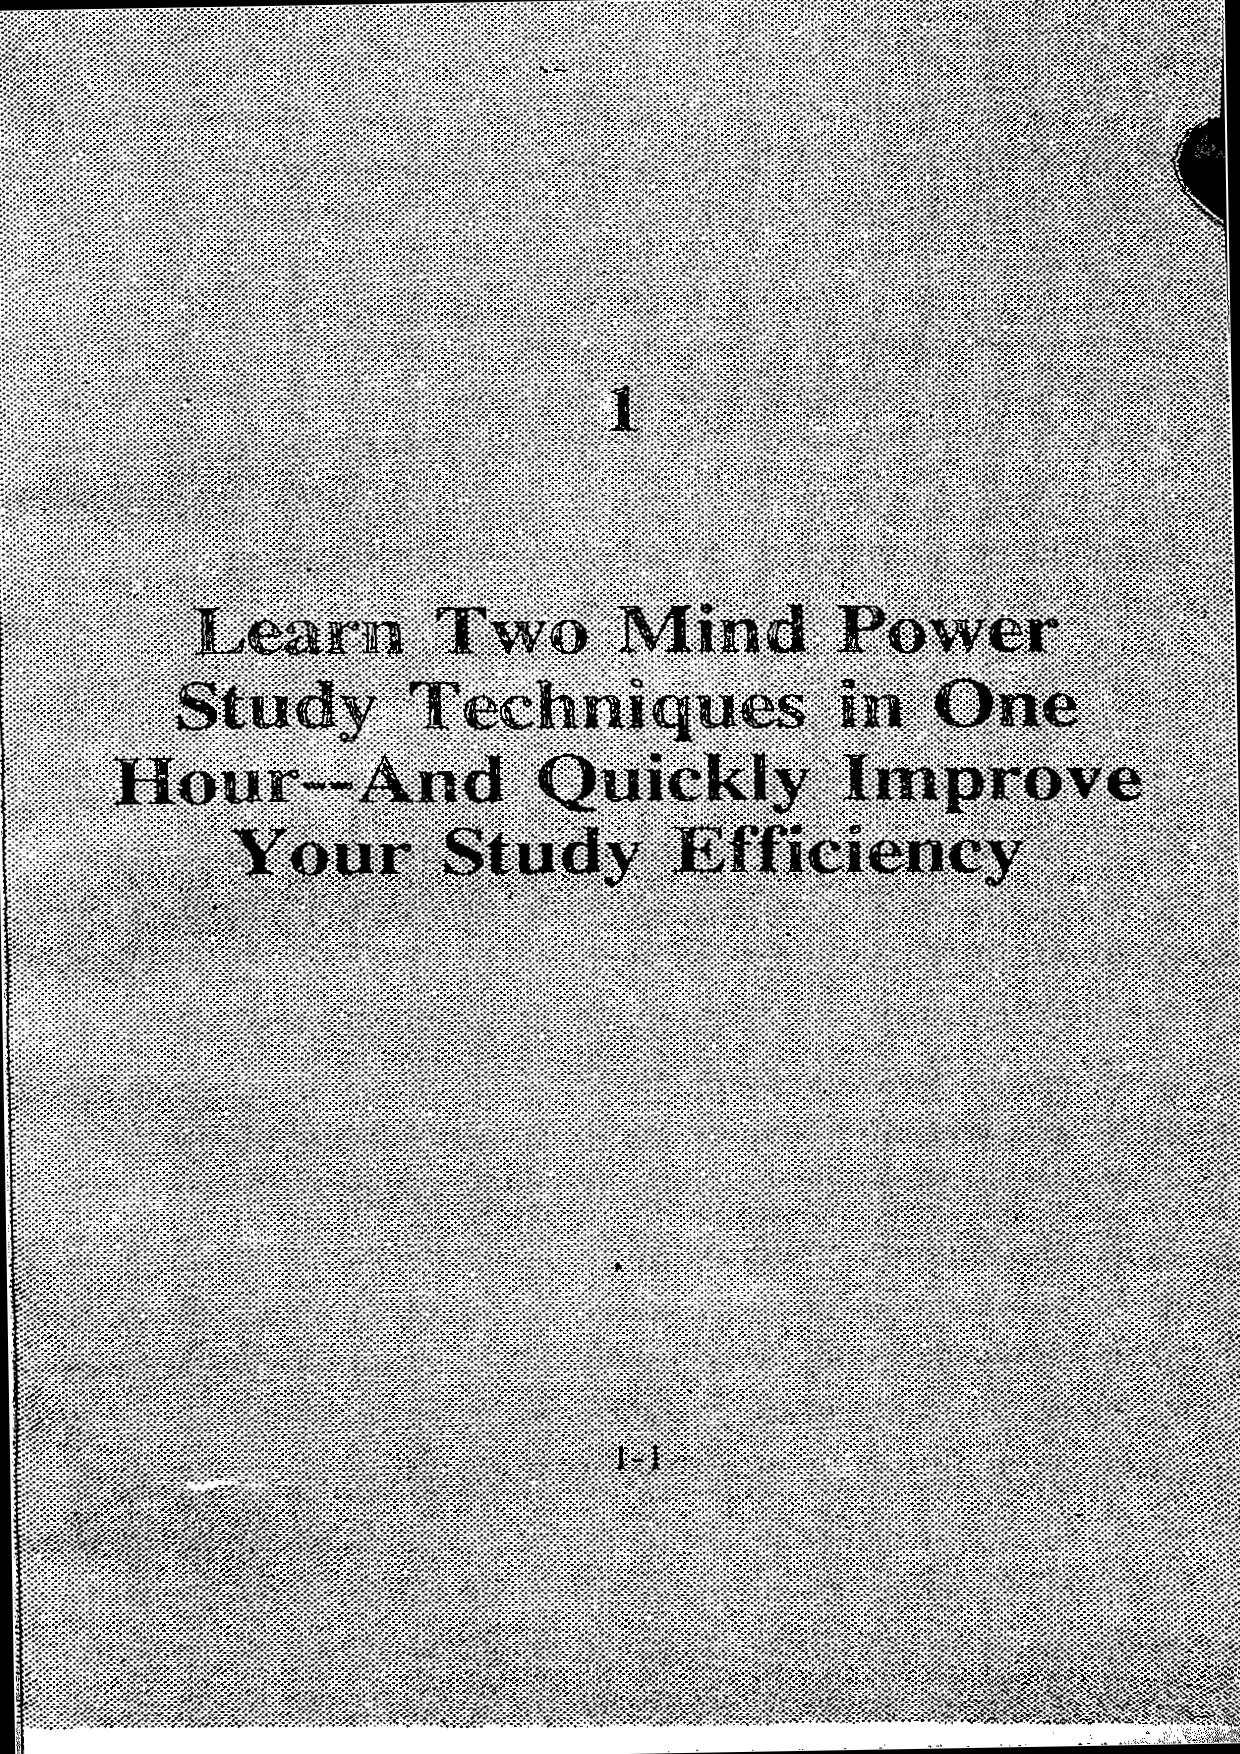chapter: (110, 604, 1146, 895)
